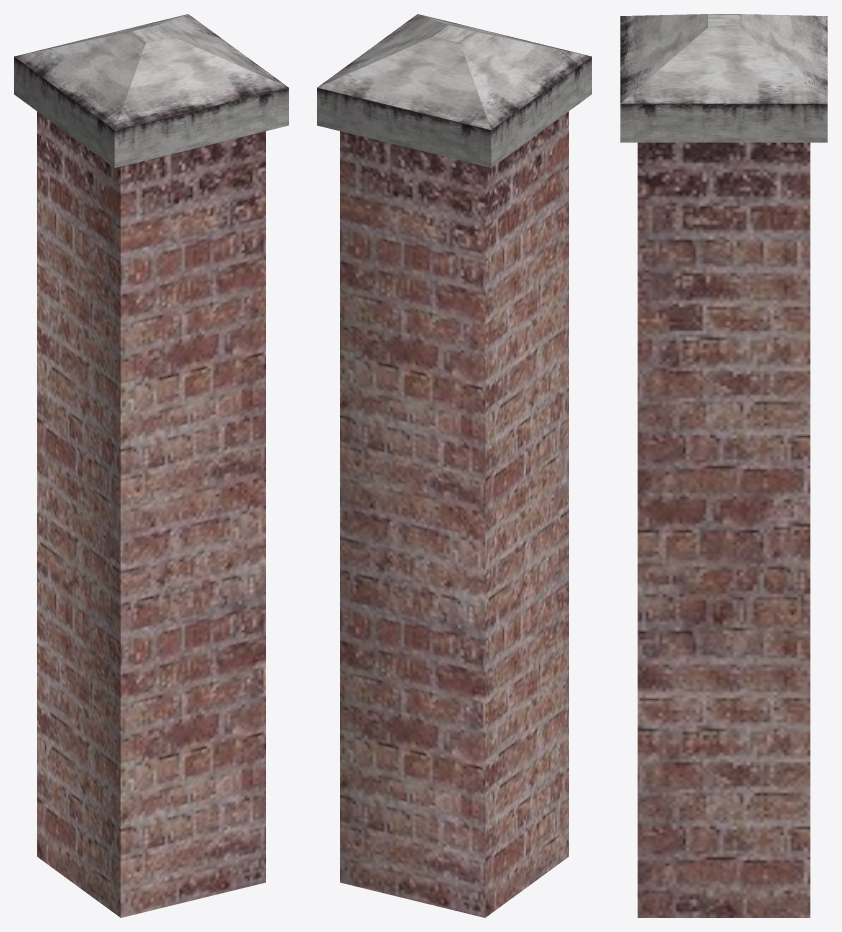
The model's file is brick_wall_pole.fbx.
3 views of the same model, side by side, from view 1: azimuth 30°, elevation 25°; view 2: azimuth 150°, elevation 25°; view 3: azimuth 270°, elevation 25° (orthographic). The views are drawn at different scales.
Visible parts, largest first — view 1: brick_wall_pole; view 2: brick_wall_pole; view 3: brick_wall_pole.
Boxes of the visible parts, <box> form: brick_wall_pole: <box>14,14,288,917</box>; brick_wall_pole: <box>317,14,591,917</box>; brick_wall_pole: <box>620,14,827,917</box>.
Bounding box in the file's own units: 48 × 220 × 48.
2 materials, 2 textured.
